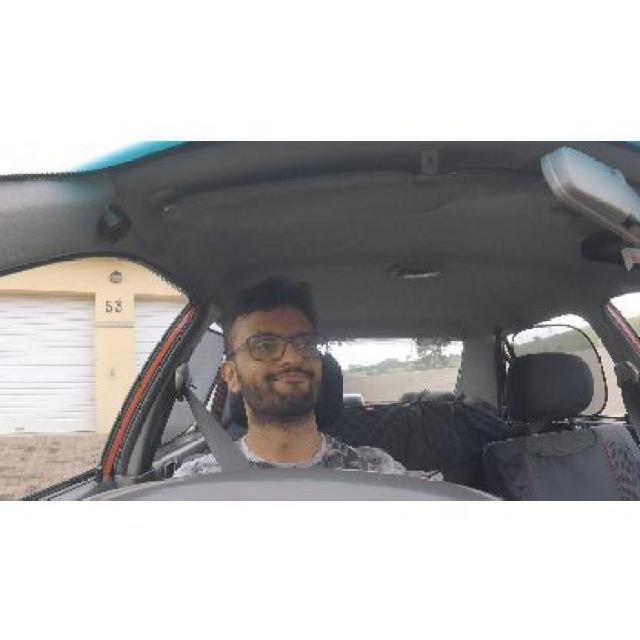person: (210, 278, 338, 422)
